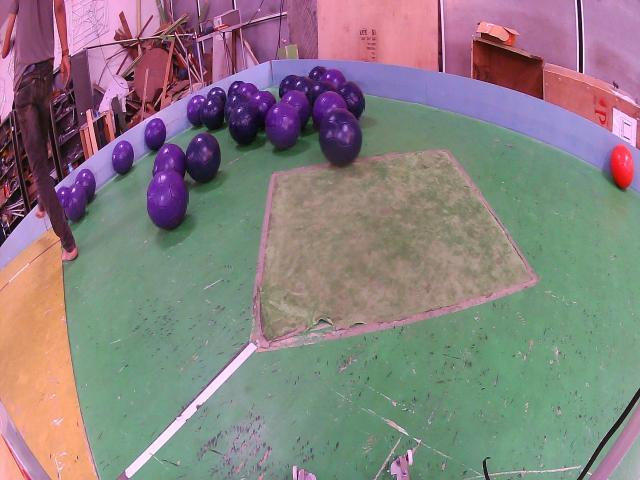jambhalya: (147, 170, 188, 230), (265, 102, 301, 149), (312, 92, 348, 129), (281, 90, 310, 129), (154, 144, 186, 178), (250, 91, 276, 127), (63, 183, 87, 222), (113, 140, 134, 174), (145, 118, 167, 150), (75, 168, 96, 201), (320, 68, 346, 90), (187, 95, 205, 126), (238, 84, 258, 98), (56, 187, 69, 208)
kaalyya: (319, 110, 362, 165), (185, 134, 221, 182), (229, 102, 259, 144), (337, 82, 364, 119), (201, 95, 225, 130), (307, 82, 334, 108), (225, 94, 248, 122), (291, 76, 314, 95), (280, 75, 298, 98), (207, 87, 227, 103), (309, 66, 326, 81), (228, 81, 243, 97)
